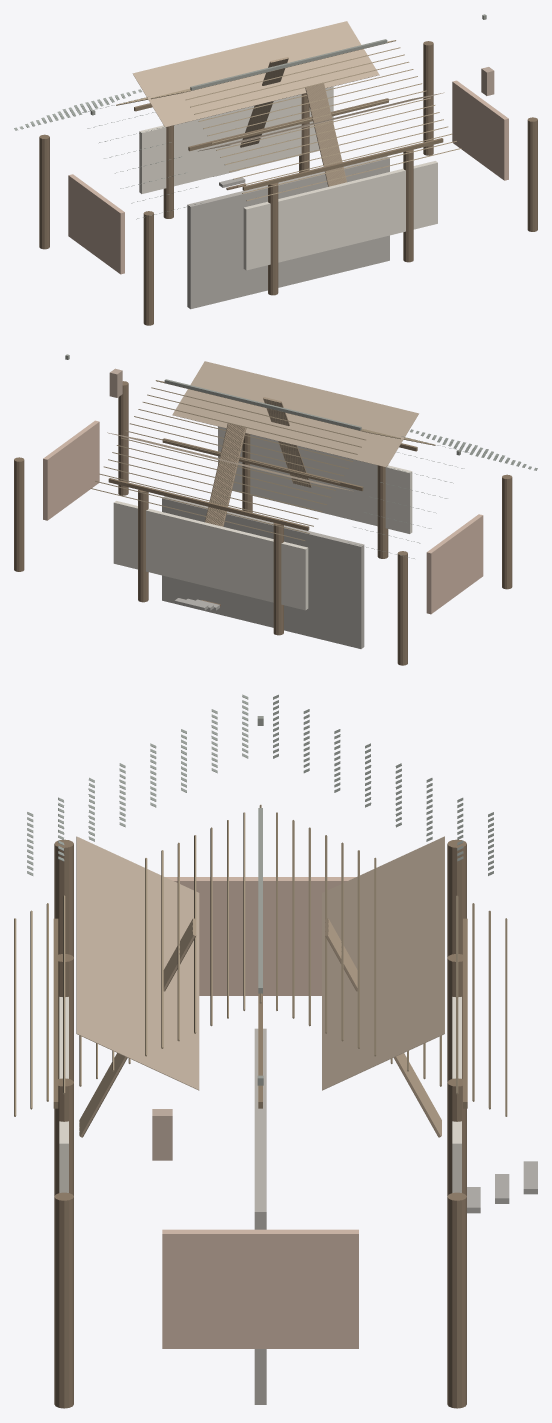
The model's file is house_white.glb.
3 views of the same model, one above another, from view 1: azimuth 30°, elevation 25°; view 2: azimuth 150°, elevation 25°; view 3: azimuth 270°, elevation 25° (orthographic). The views are drawn at different scales.
Parts seen in each view (by area): view 1: Sheath_R, Front_Wall, Foundation, Back_Wall, Left_Wall, Right_Wall, Rafters_L, Column_0, Column_4, Column_7, Column_3, Back_Tie (+9 smaller); view 2: Sheath_L, Back_Wall, Foundation, Front_Wall, Left_Wall, Right_Wall, Rafters_R, Column_0, Column_3, Column_4, Column_7, Front_Tie (+9 smaller); view 3: Right_Wall, Sheath_L, Sheath_R, Left_Wall, Column_3, Column_7, Foundation, Column_0, Column_4, Rafters_L, Rafters_R, Column_2 (+9 smaller).
Part boxes in pixels (x1,y1,x2,y2): Sheath_R: [132, 21, 379, 127]; Front_Wall: [243, 161, 437, 270]; Foundation: [187, 156, 389, 309]; Back_Wall: [139, 86, 333, 193]; Left_Wall: [68, 174, 124, 274]; Right_Wall: [452, 80, 508, 180]; Rafters_L: [305, 83, 346, 186]; Column_0: [39, 134, 49, 249]; Column_4: [143, 211, 153, 325]; Column_7: [527, 117, 537, 231]; Column_3: [423, 41, 433, 155]; Back_Tie: [242, 138, 443, 190]; Sheath_L: [172, 361, 418, 467]; Back_Wall: [113, 501, 308, 610]; Foundation: [162, 496, 364, 648]; Front_Wall: [218, 426, 412, 533]; Left_Wall: [426, 514, 483, 614]; Right_Wall: [43, 420, 99, 520]; Rafters_R: [205, 423, 246, 526]; Column_0: [397, 551, 407, 665]; Column_3: [14, 457, 24, 571]; Column_4: [502, 474, 512, 589]; Column_7: [118, 381, 128, 495]; Front_Tie: [108, 478, 309, 530]; Right_Wall: [162, 1229, 358, 1348]; Sheath_L: [76, 836, 199, 1090]; Sheath_R: [322, 836, 444, 1090]; Left_Wall: [165, 877, 355, 995]; Column_3: [447, 1192, 466, 1408]; Column_7: [54, 1192, 73, 1408]; Foundation: [254, 1028, 266, 1404]; Column_0: [447, 839, 466, 957]; Column_4: [54, 839, 73, 957]; Rafters_L: [79, 918, 196, 1137]; Rafters_R: [325, 918, 441, 1137]; Column_2: [447, 1078, 466, 1195].
Size of the model in its own units: 10.9 by 5.74 by 6.4.
